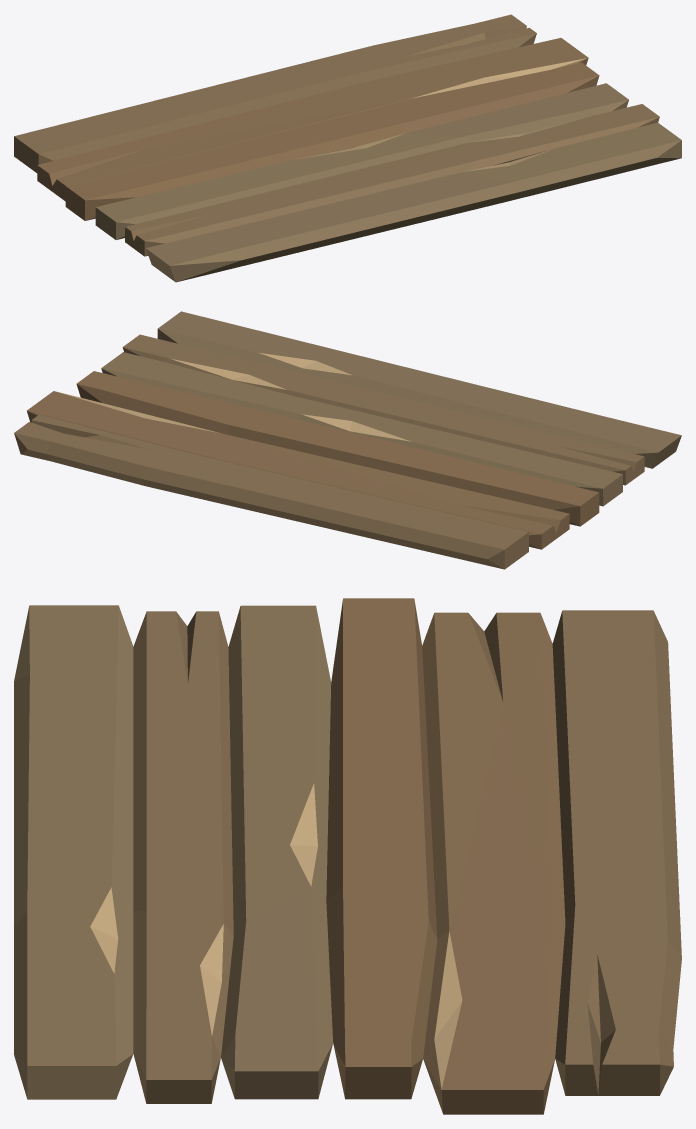
Rendered from rpgpp_ag_wall_platform_01d_4m.fbx.
3 views of the same model, one above another, from view 1: azimuth 30°, elevation 25°; view 2: azimuth 150°, elevation 25°; view 3: azimuth 270°, elevation 25° (orthographic). The views are drawn at different scales.
Visible parts, largest first — view 1: rpgpp_ag_wall_platform_01d_4m; view 2: rpgpp_ag_wall_platform_01d_4m; view 3: rpgpp_ag_wall_platform_01d_4m.
Boxes of the visible parts, x1,y1,x2,y2 form: rpgpp_ag_wall_platform_01d_4m: (14, 14, 681, 282); rpgpp_ag_wall_platform_01d_4m: (14, 311, 681, 569); rpgpp_ag_wall_platform_01d_4m: (14, 598, 681, 1114).
Size of the model in its own units: 4 by 0.1594 by 2.35.
